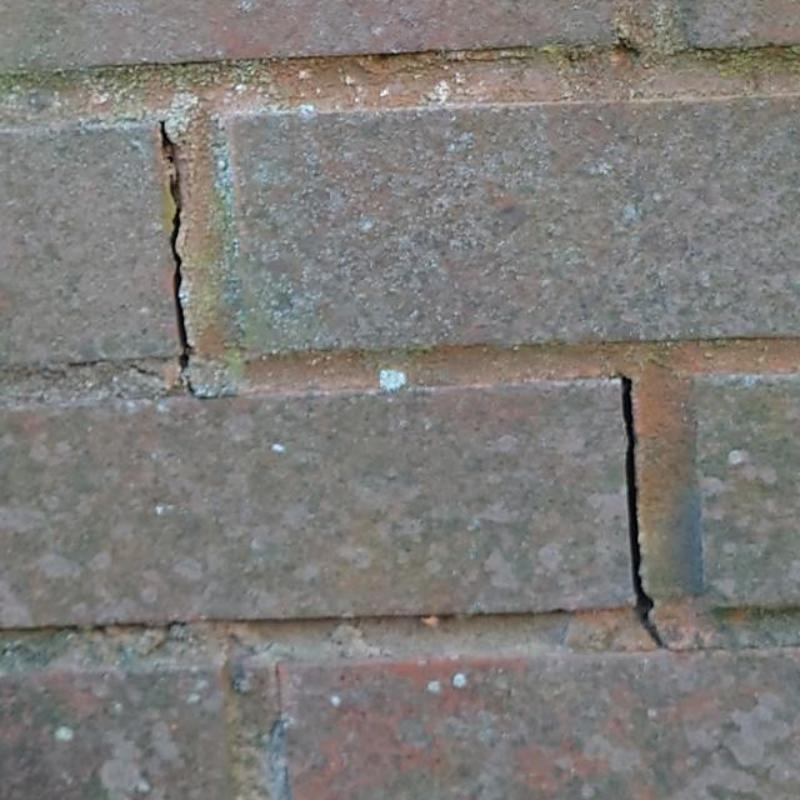pothole: (623, 377, 662, 647), (158, 122, 197, 376), (0, 618, 184, 636), (184, 374, 239, 400), (662, 642, 759, 652)
